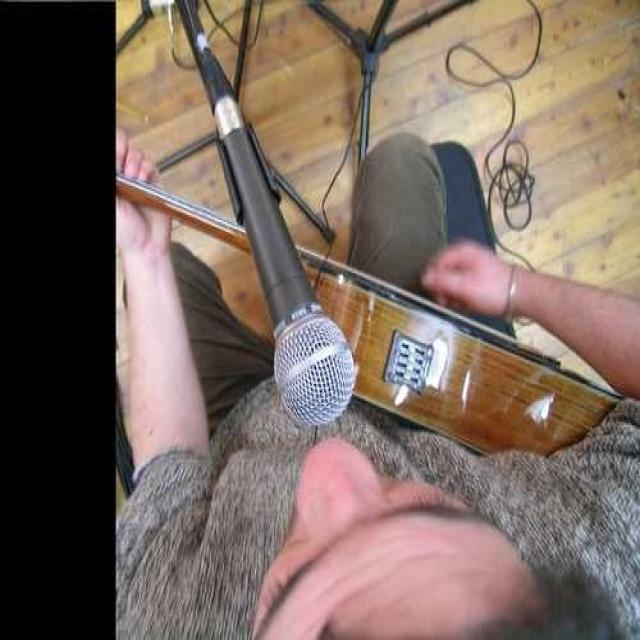microphone: (168, 7, 358, 428)
